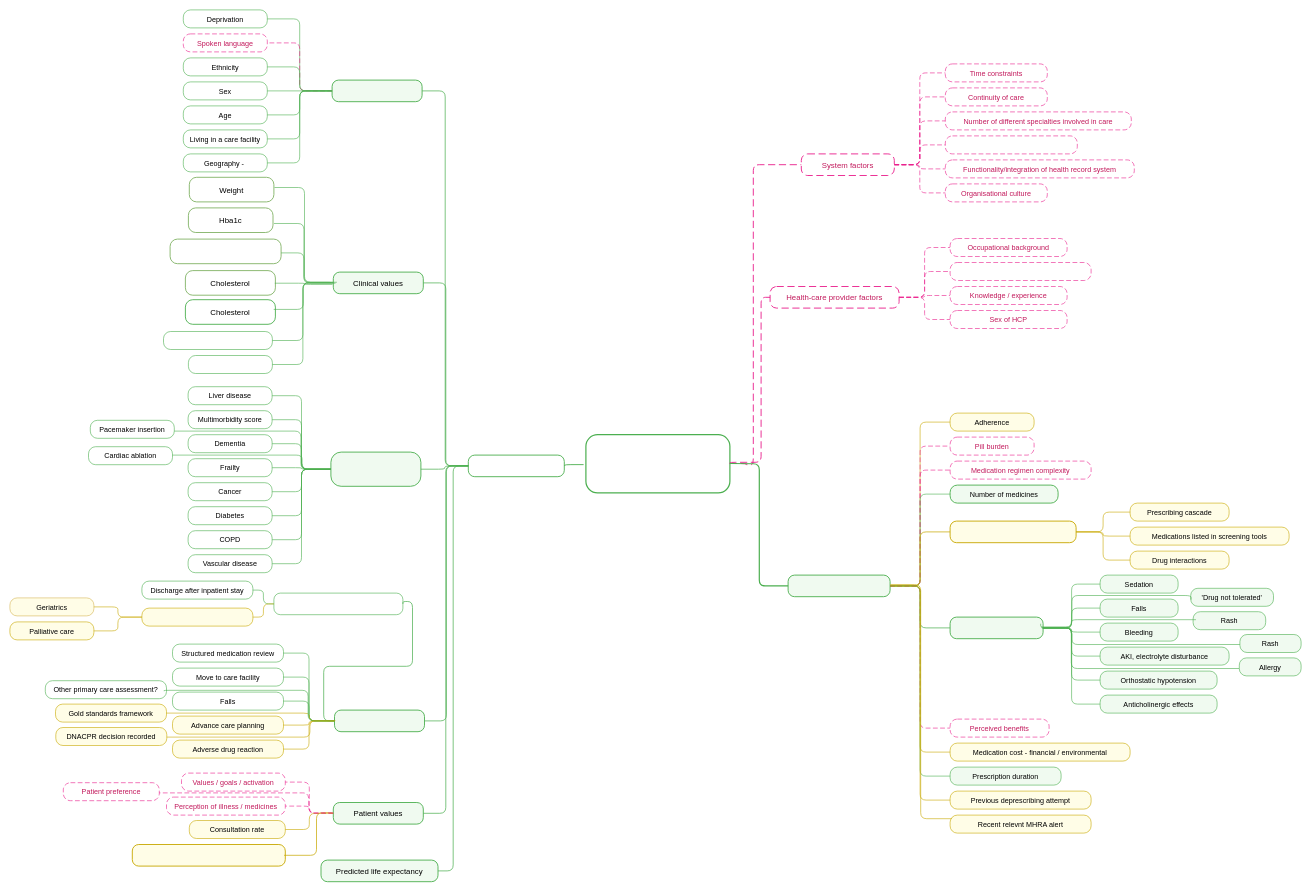
The diagram is 1311 pixels wide and 892 high, and some of its shapes have lost their labels. Each missing label, with the centre of its shape:
Adverse effects: [996,627]
Blood pressure / weight: [217,340]
Comorbidities Recent vs old: [375,468]
Demographics: [376,90]
eGFR: [230,364]
Evidence of previous deprescribing: [208,855]
Factors that may associate with deprescribing: [657,463]
Financial incentives / pressure: [1011,144]
Frequency of blood testing?: [225,251]
Inappropriate prescribing: [1012,531]
Interaction with secondary care: [338,603]
Medication factors: [838,585]
OPA in secondary care: [197,617]
Patient factors: [516,465]
Recent events: [379,720]
Values and interest in the area: [1020,271]
